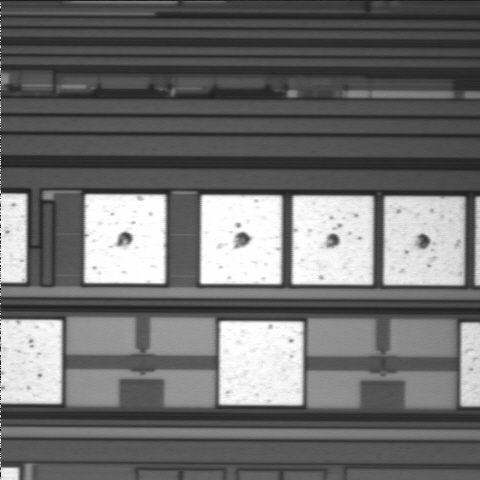pad: (84, 194, 166, 284), (200, 195, 282, 284), (292, 196, 373, 285), (384, 196, 464, 285), (219, 321, 303, 405)
